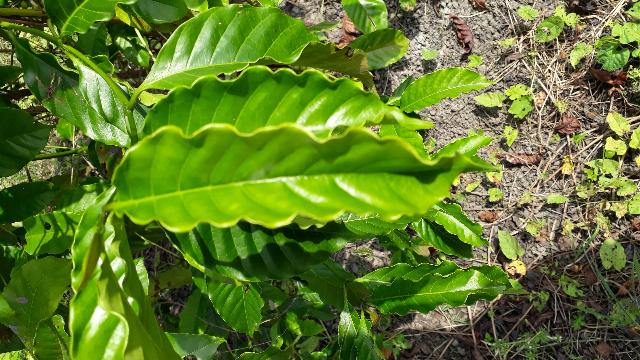healthy: (96, 125, 499, 229)
